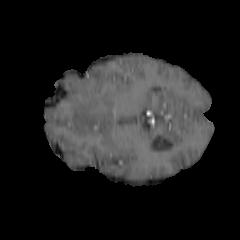glioma: (48, 72, 112, 129)
